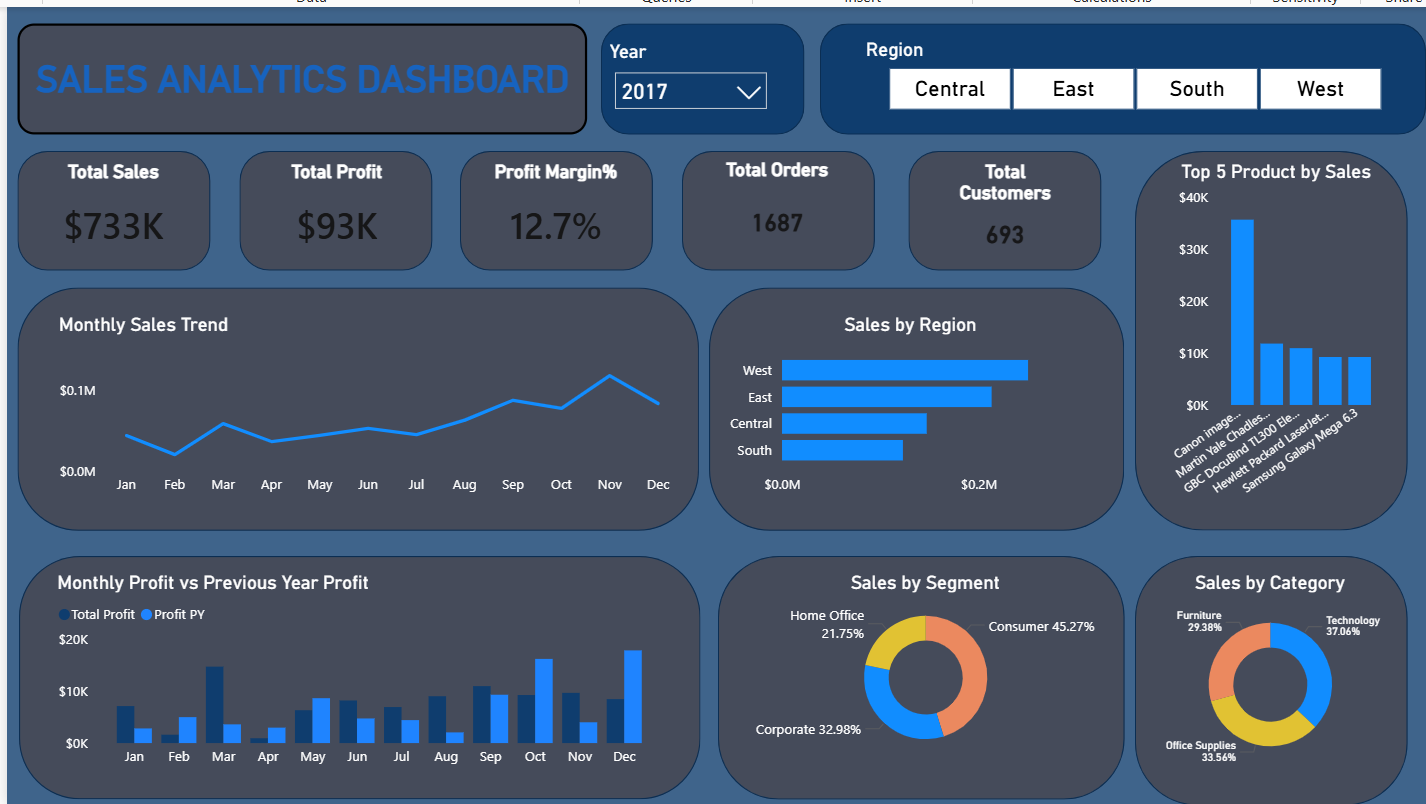

The page's visual inventory and layout, read from the dashboard file:
{"tool":"powerbi","page":{"name":"Executive Overview","canvas":[1280,720],"ordinal":0},"visuals":[{"type":"textbox","box":[180.2,0,640.5,65.1],"z":0},{"type":"slicer","fields":{"Values":["Calendar.Year"]},"box":[728.3,10.6,140.8,54.5],"z":1000},{"type":"slicer","fields":{"Values":["Sample - Superstore.Region"]},"box":[891.9,10.6,140.8,54.5],"z":2000},{"type":"slicer","fields":{"Values":["Sample - Superstore.Category"]},"box":[1067.5,10.6,140.8,54.5],"z":3000},{"type":"cardVisual","title":"TOTAL ","fields":{"Data":["Measures_ (2).Total Sales"]},"box":[166.3,64.3,187.1,172],"z":4000},{"type":"cardVisual","title":"TOTAL ","fields":{"Data":["Measures_ (2).Total Profit"]},"box":[366.4,65.1,172.6,172.6],"z":5000},{"type":"cardVisual","title":"TOTAL ","fields":{"Data":["Measures_ (2).profit margin %"]},"box":[554.2,65.1,172.6,172.6],"z":6000},{"type":"cardVisual","title":"TOTAL ","fields":{"Data":["Measures_ (2).Total Orders"]},"box":[734.4,65.1,171.1,172.6],"z":7000},{"type":"cardVisual","title":"TOTAL ","fields":{"Data":["Measures_ (2).Total Customers"]},"box":[922.2,65.1,171.1,172.6],"z":8000},{"type":"cardVisual","title":"TOTAL ","fields":{"Data":["Measures_ (2).YOY Sales %"]},"box":[1108.4,65.1,171.1,172.6],"z":9000},{"type":"lineChart","fields":{"Y":["Measures_ (2).Total Sales"],"Category":["Calendar.Month"]},"box":[180.2,254.4,424,210.5],"z":10000},{"type":"clusteredColumnChart","fields":{"Category":["Sample - Superstore.Region"],"Y":["Measures_ (2).Total Sales"]},"box":[193.8,477,410.3,242.3],"z":10001},{"type":"donutChart","fields":{"Category":["Sample - Superstore.Category"],"Y":["Measures_ (2).Total Sales"]},"box":[620.8,249.8,387.6,227.1],"z":10002},{"type":"clusteredColumnChart","fields":{"Category":["Sample - Superstore.Segment"],"Y":["Measures_ (2).Total Sales"]},"box":[997.9,249.8,281.6,246.8],"z":10003},{"type":"clusteredColumnChart","fields":{"Category":["Sample - Superstore.Category"],"Y":["Measures_ (2).Total Sales","Measures_ (2).Total Profit"]},"box":[607.2,487.6,284.7,222.6],"z":10004},{"type":"clusteredBarChart","fields":{"Y":["Measures_ (2).Total Quantity"],"Category":["Sample - Superstore.Product Name"]},"box":[891.9,477,387.6,233.2],"z":10005}]}

Visuals, with their boxes on the page's 1280x720 design canvas (x1, y1, x2, y2). These are canvas units, not pixel positions in the 1426x804 screenshot, which may show the page scaled, cropped or inside an application window:
textbox: rect(180, 0, 821, 65)
slicer - Calendar.Year: rect(728, 11, 869, 65)
slicer - Sample - Superstore.Region: rect(892, 11, 1033, 65)
slicer - Sample - Superstore.Category: rect(1068, 11, 1208, 65)
"TOTAL " cardVisual: rect(166, 64, 353, 236)
"TOTAL " cardVisual: rect(366, 65, 539, 238)
"TOTAL " cardVisual: rect(554, 65, 727, 238)
"TOTAL " cardVisual: rect(734, 65, 906, 238)
"TOTAL " cardVisual: rect(922, 65, 1093, 238)
"TOTAL " cardVisual: rect(1108, 65, 1280, 238)
lineChart - Measures_ (2).Total Sales x Calendar.Month: rect(180, 254, 604, 465)
clusteredColumnChart - Sample - Superstore.Region x Measures_ (2).Total Sales: rect(194, 477, 604, 719)
donutChart - Sample - Superstore.Category x Measures_ (2).Total Sales: rect(621, 250, 1008, 477)
clusteredColumnChart - Sample - Superstore.Segment x Measures_ (2).Total Sales: rect(998, 250, 1280, 497)
clusteredColumnChart - Sample - Superstore.Category x Measures_ (2).Total Sales: rect(607, 488, 892, 710)
clusteredBarChart - Measures_ (2).Total Quantity x Sample - Superstore.Product Name: rect(892, 477, 1280, 710)
